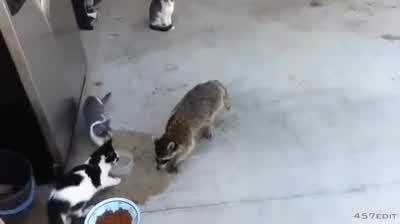raccoon: (151, 77, 234, 173)
